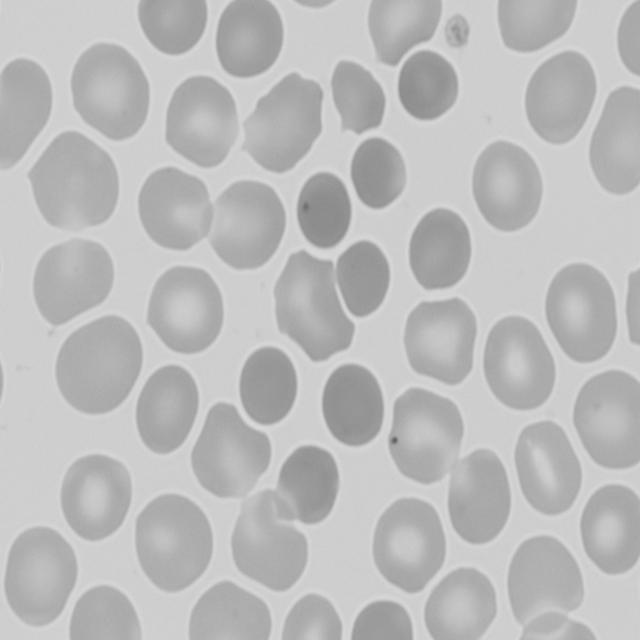RBC: (26, 129, 120, 240), (55, 315, 146, 418), (66, 40, 154, 144), (540, 256, 620, 368), (132, 491, 218, 594), (504, 527, 586, 633), (388, 378, 468, 485), (2, 522, 78, 634), (242, 75, 326, 175), (368, 490, 448, 594), (206, 176, 290, 274), (162, 74, 245, 172), (568, 362, 640, 474), (510, 418, 586, 524), (190, 404, 274, 499), (484, 313, 562, 415), (32, 232, 116, 324), (469, 134, 546, 234), (522, 49, 598, 150), (402, 296, 485, 388), (442, 442, 512, 550), (147, 264, 229, 356), (58, 452, 134, 547), (136, 166, 216, 256), (136, 362, 204, 459), (584, 83, 640, 198), (209, 0, 285, 83), (0, 54, 57, 164), (577, 482, 640, 580), (407, 206, 475, 296), (363, 0, 448, 68), (422, 562, 496, 640), (188, 579, 276, 640), (490, 0, 581, 58), (135, 0, 213, 66), (327, 61, 390, 138), (396, 46, 458, 124), (67, 583, 143, 640), (275, 592, 348, 640), (347, 597, 418, 640), (613, 0, 640, 84), (619, 256, 640, 359)
Spherocyte: (317, 360, 388, 452), (274, 441, 342, 528), (237, 344, 303, 432), (348, 128, 411, 214), (292, 170, 354, 254), (336, 240, 394, 322)
